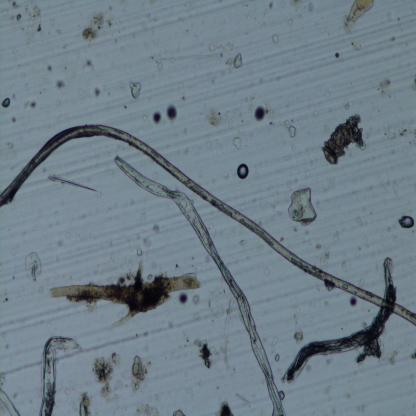Air bubble: (236, 162, 250, 181), (400, 214, 416, 229), (1, 98, 11, 108)
Background material: (49, 262, 201, 328), (320, 114, 368, 170), (90, 350, 120, 401), (288, 185, 318, 228), (342, 1, 376, 35), (13, 4, 41, 44), (81, 10, 105, 48), (49, 176, 99, 194), (127, 351, 148, 392), (191, 32, 219, 60), (382, 119, 413, 144), (374, 74, 403, 99), (0, 382, 21, 416), (24, 252, 44, 283), (194, 339, 212, 370), (286, 320, 308, 340), (204, 108, 226, 128), (165, 102, 180, 125), (77, 391, 91, 415), (128, 79, 143, 101), (225, 53, 244, 68), (80, 57, 96, 74), (218, 397, 233, 414), (254, 105, 267, 122), (330, 45, 342, 62), (90, 83, 102, 99), (134, 244, 146, 258), (151, 110, 162, 125), (233, 135, 242, 152), (349, 294, 358, 310), (288, 124, 297, 138), (43, 63, 54, 74), (54, 78, 65, 89), (26, 97, 36, 108), (272, 33, 279, 47), (409, 349, 416, 360), (273, 354, 281, 363)
Cellulose filter fibre: (113, 152, 287, 414), (280, 256, 397, 387), (34, 336, 83, 415)
Microfibre: (0, 120, 416, 327)
